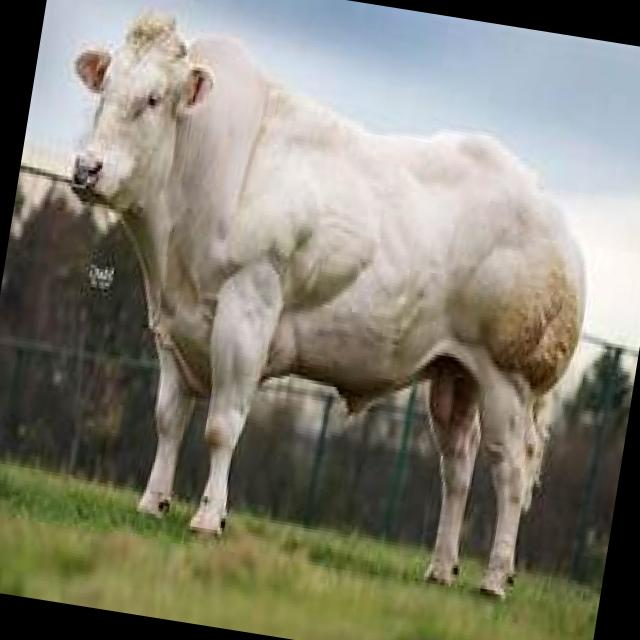cow: (3, 0, 623, 604)
